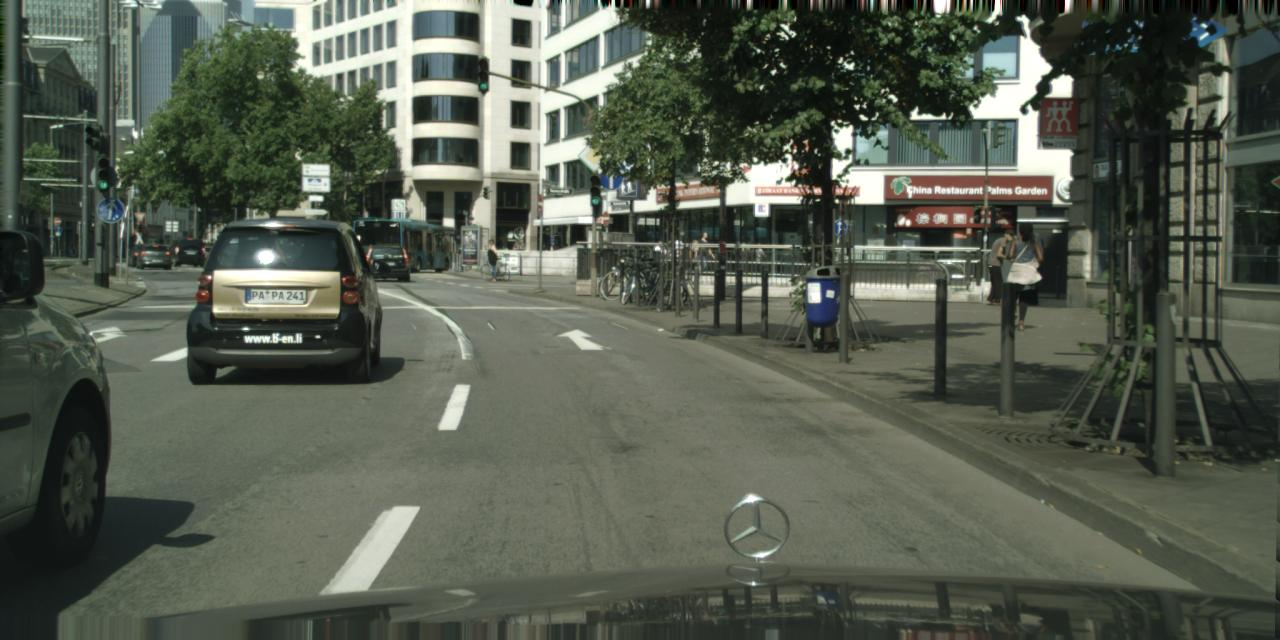ped: (999, 220, 1043, 329), (985, 229, 1016, 305), (484, 238, 502, 280), (693, 231, 708, 243)
